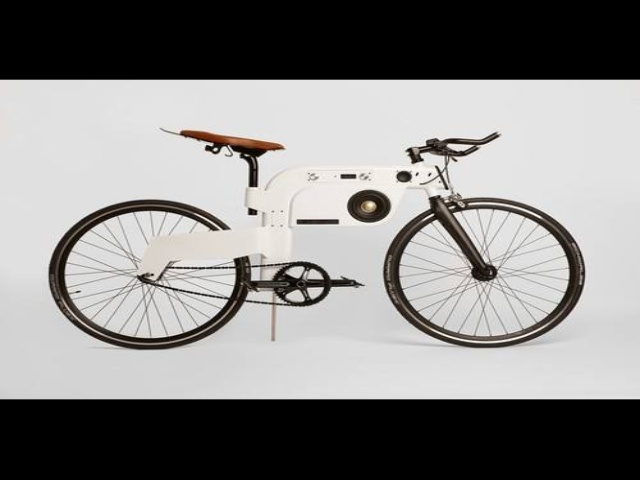bike: (39, 111, 595, 356)
